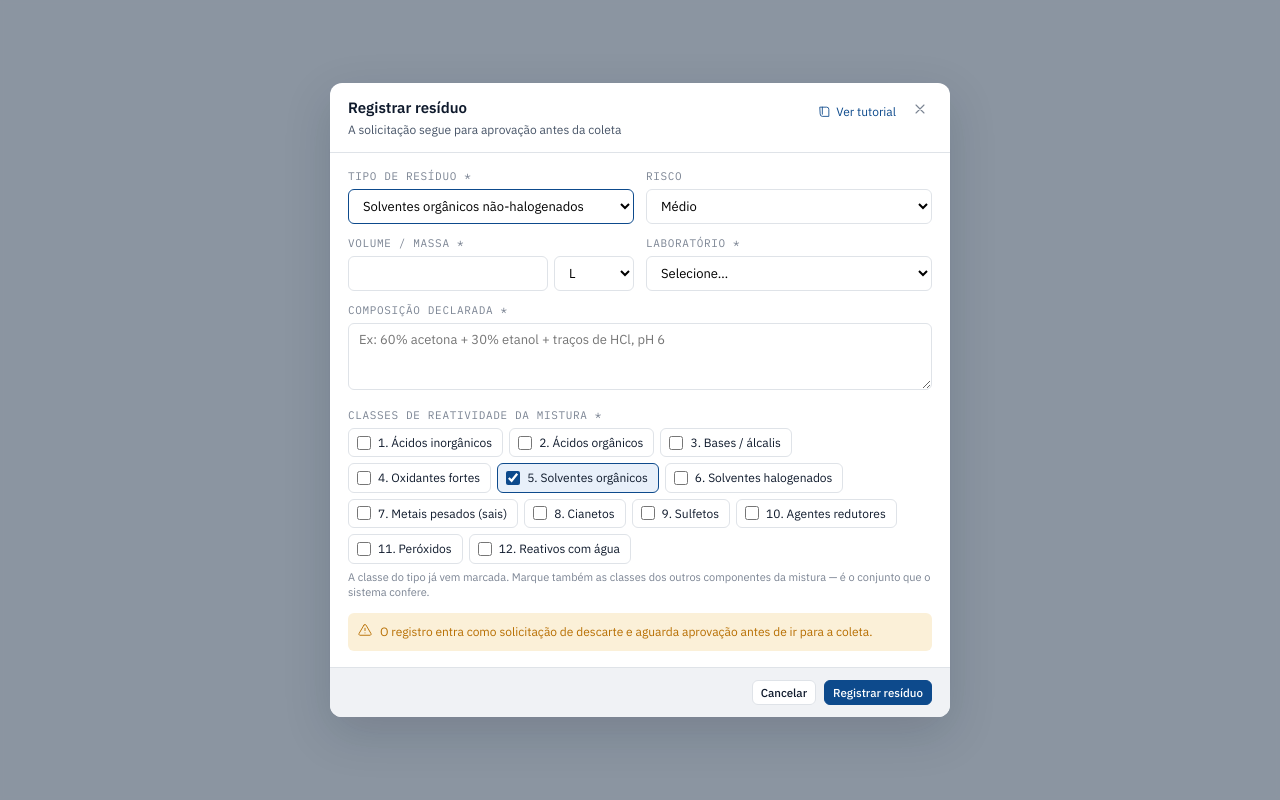
it: FormNovoResiduo — entradas inválidas › veredito de mistura ao vivo › aceita mistura em cautela, avisando
This screenshot has width=1280, height=800.
Click the checkbox labelled "1. Ácidos inorgânicos" at (364, 443), box x1=357 y1=436 x2=371 y2=450
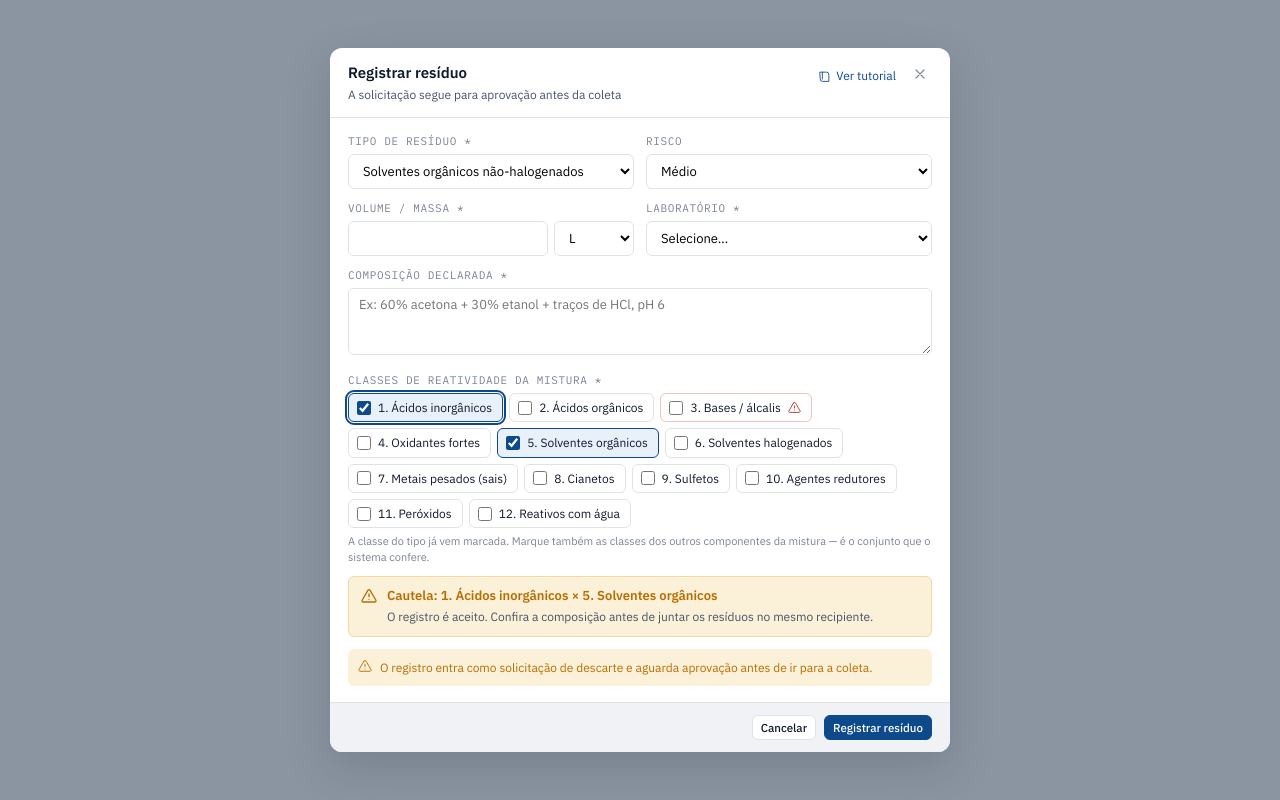
Expected: the button "Registrar resíduo" is enabled, x1=824 y1=715 x2=932 y2=740
Result: the text "Cautela: 1. Ácidos inorgânicos × 5. Solventes orgânicos" is shown at x1=387 y1=587 x2=718 y2=604
